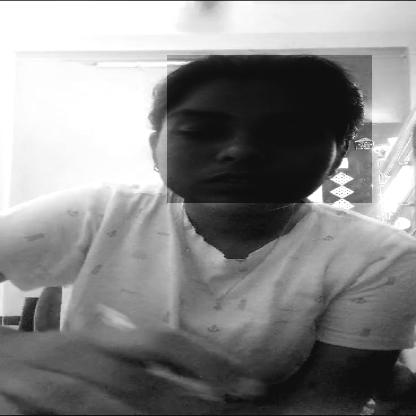Normal: (167, 56, 372, 204)
